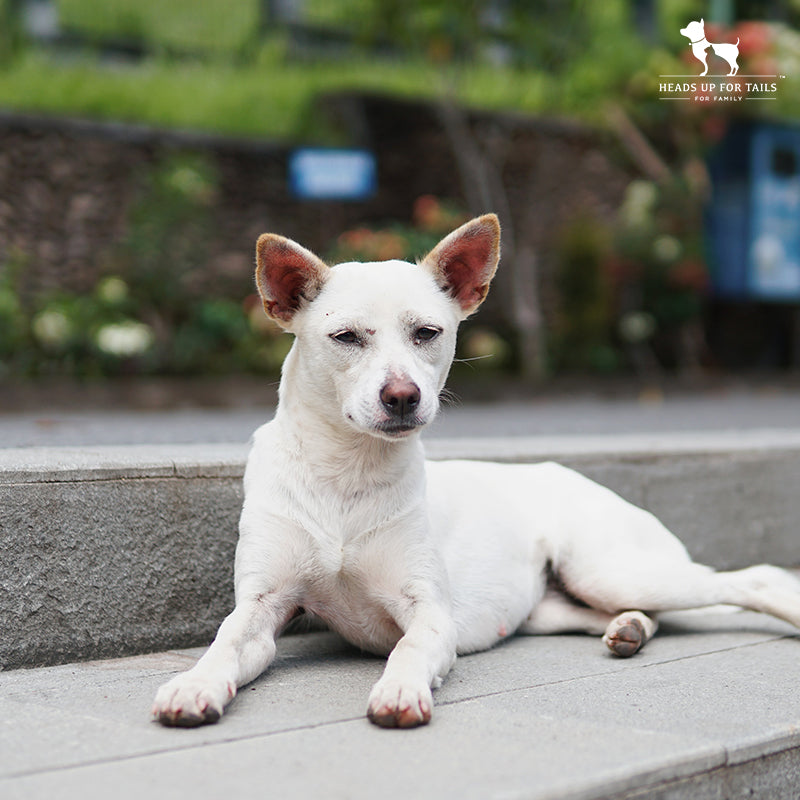Dog: (144, 207, 800, 739)
